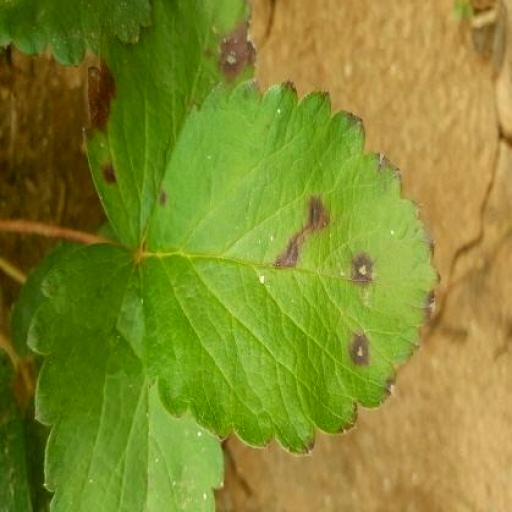Leaf Spot: (142, 56, 441, 434), (84, 257, 260, 511)
